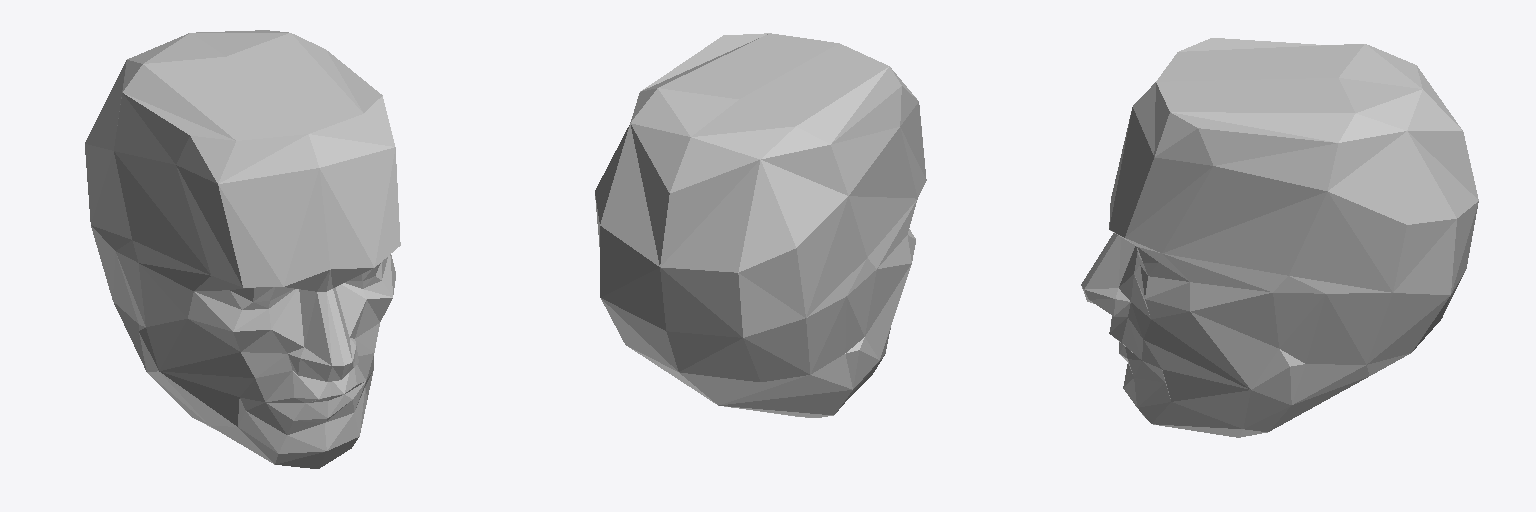
File: pistol_head.obj
The picture shows the model from 3 angles: view 1: azimuth 30°, elevation 25°; view 2: azimuth 150°, elevation 25°; view 3: azimuth 270°, elevation 25°; orthographic projection.
Parts seen in each view (by area): view 1: Group; view 2: Group; view 3: Group.
Part boxes in pixels (x1,y1,x2,y2): Group: (85,30,400,468); Group: (595,33,926,417); Group: (1081,38,1478,437).
Bounding box in the file's own units: 6.27 × 9.42 × 9.54.